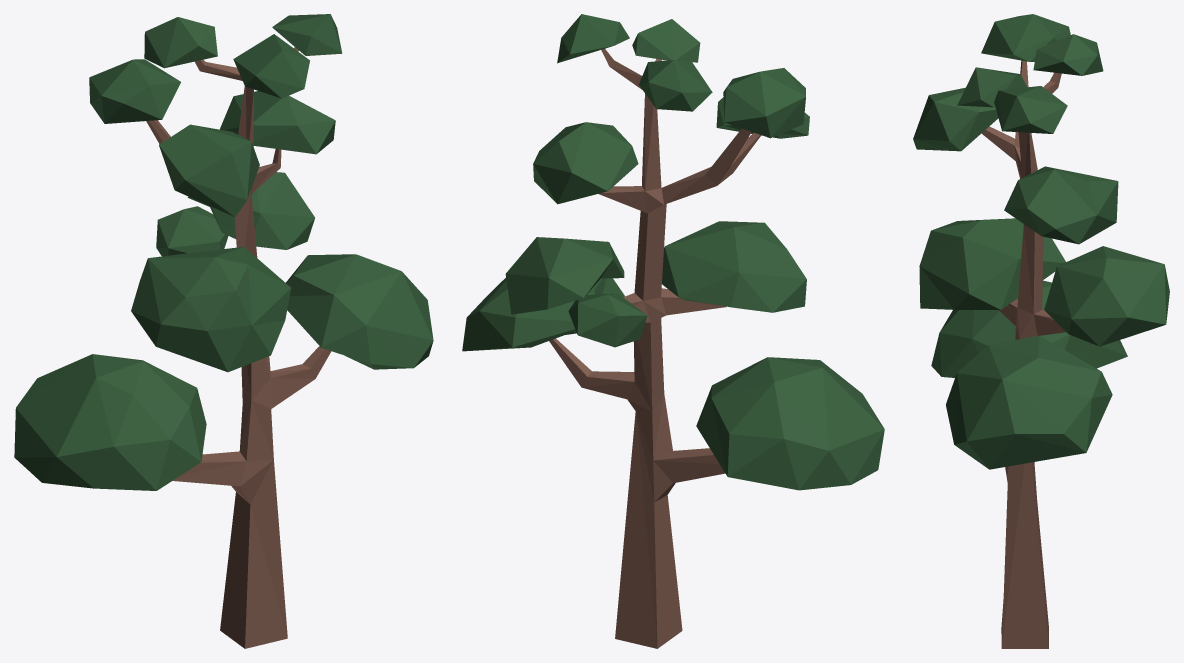
The model's file is trop-seasonal.tall-op0.4.gltf.
The picture shows the model from 3 angles, left to right: view 1: azimuth 30°, elevation 25°; view 2: azimuth 150°, elevation 25°; view 3: azimuth 270°, elevation 25°; orthographic projection. The views are drawn at different scales.
Parts seen in each view (by area): view 1: Tree6_1; view 2: Tree6_1; view 3: Tree6_1.
Part boxes in pixels (<box>): Tree6_1: <box>14,14,433,648</box>; Tree6_1: <box>462,14,884,648</box>; Tree6_1: <box>913,14,1169,648</box>.
Bounding box in the file's own units: 4.54 × 6.8 × 2.72.
1 material, 1 textured.
